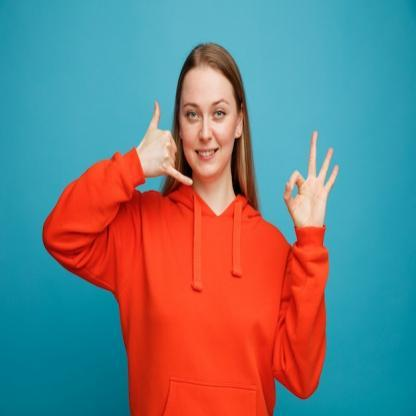ok: (281, 126, 340, 239)
